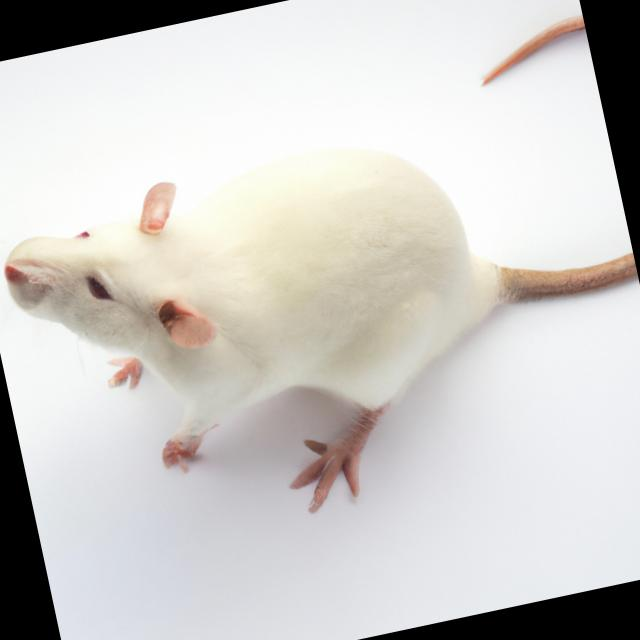rodents: (0, 99, 529, 548)
